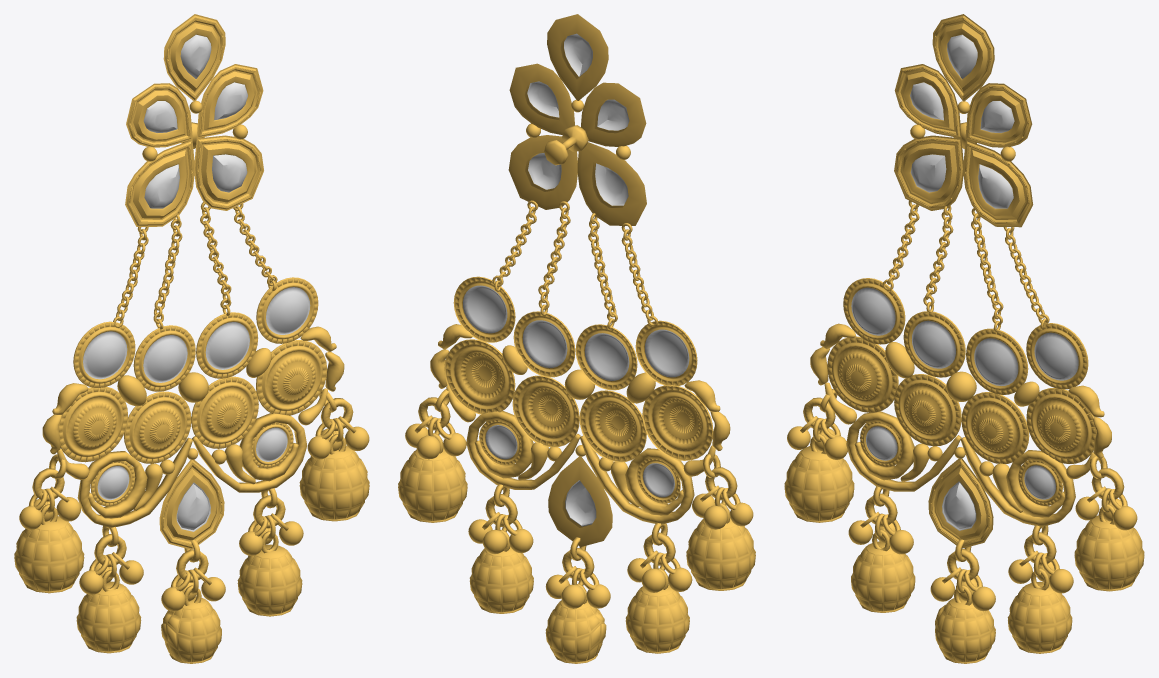
Rendered from Ear_Ring_Jewellery.glb.
The picture shows the model from 3 angles, left to right: view 1: azimuth 30°, elevation 25°; view 2: azimuth 150°, elevation 25°; view 3: azimuth 330°, elevation 25°; orthographic projection.
Visible parts, largest first — view 1: Circle, Petal, Dn_Balls, Spherical_Comp, Chains&Links, Curvy; view 2: Circle, Petal, Dn_Balls, Spherical_Comp, Chains&Links, Curvy, Cylinder; view 3: Circle, Petal, Dn_Balls, Spherical_Comp, Chains&Links, Curvy.
Boxes of the visible parts, left/top/right/bottom form: Circle: left=58, top=277, right=327, bottom=506; Petal: left=125, top=14, right=263, bottom=549; Dn_Balls: left=14, top=445, right=369, bottom=663; Spherical_Comp: left=19, top=100, right=369, bottom=611; Chains&Links: left=29, top=202, right=356, bottom=605; Curvy: left=77, top=413, right=307, bottom=527; Circle: left=444, top=276, right=713, bottom=503; Petal: left=508, top=14, right=646, bottom=546; Dn_Balls: left=398, top=448, right=755, bottom=663; Spherical_Comp: left=405, top=100, right=753, bottom=608; Chains&Links: left=414, top=200, right=740, bottom=603; Curvy: left=466, top=411, right=694, bottom=524; Cylinder: left=544, top=125, right=588, bottom=165; Circle: left=827, top=278, right=1096, bottom=505; Petal: left=894, top=14, right=1033, bottom=548; Dn_Balls: left=784, top=446, right=1144, bottom=663; Spherical_Comp: left=787, top=101, right=1137, bottom=611; Chains&Links: left=800, top=200, right=1127, bottom=605; Curvy: left=846, top=411, right=1075, bottom=526.
Bounding box in the file's own units: 1.89 × 3.33 × 0.3827.
